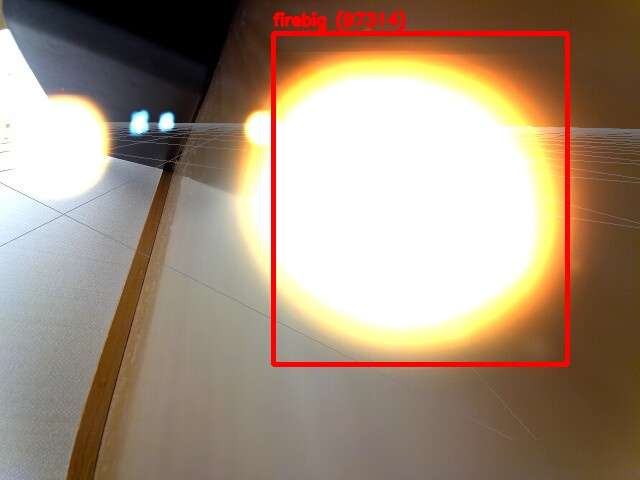firebig: (273, 33, 567, 364)
